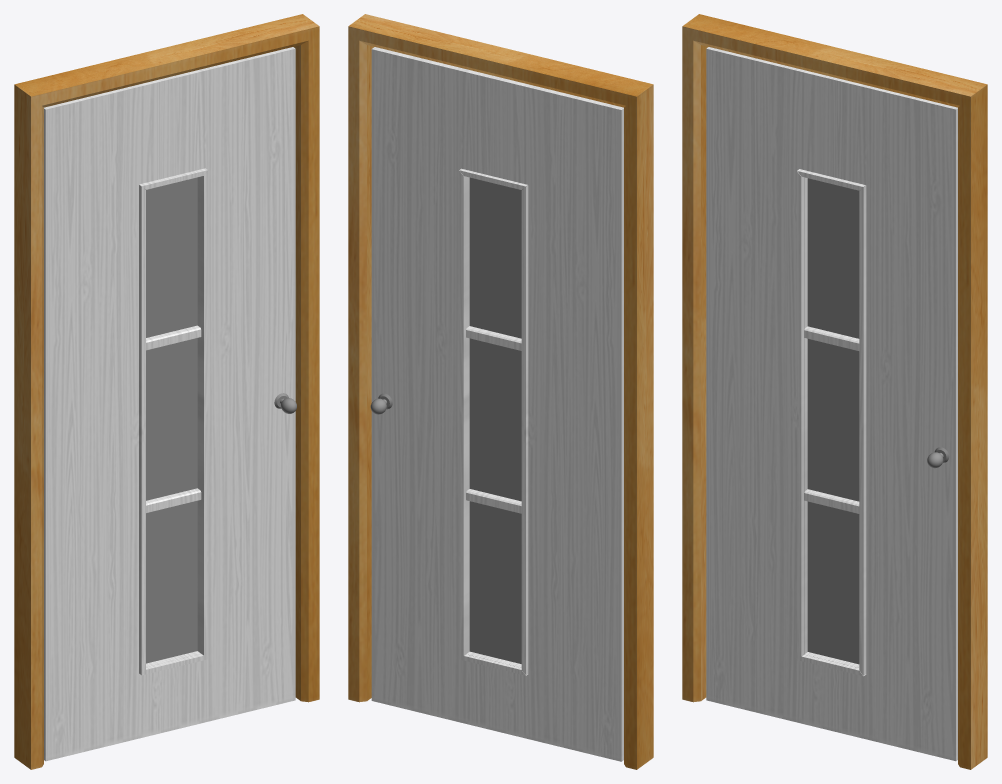
The model's file is doorHall.fbx.
3 views of the same model, side by side, from view 1: azimuth 30°, elevation 25°; view 2: azimuth 150°, elevation 25°; view 3: azimuth 330°, elevation 25° (orthographic).
Parts seen in each view (by area): view 1: PivotDoor001, frame; view 2: PivotDoor001, frame; view 3: PivotDoor001, frame.
Part boxes in pixels (x1,y1,x2,y2): PivotDoor001: (44, 47, 295, 761); frame: (14, 14, 319, 769); PivotDoor001: (371, 47, 623, 761); frame: (348, 14, 653, 769); PivotDoor001: (706, 47, 957, 761); frame: (682, 14, 987, 769).
Bounding box in the file's own units: 44.58 × 99.41 × 8.43.
6 materials, 3 textured.
